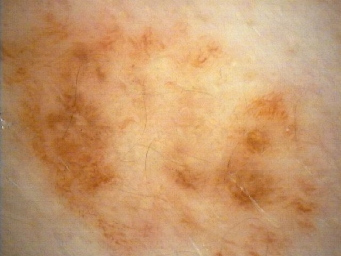nevus: (12, 37, 125, 205), (232, 94, 277, 212)
